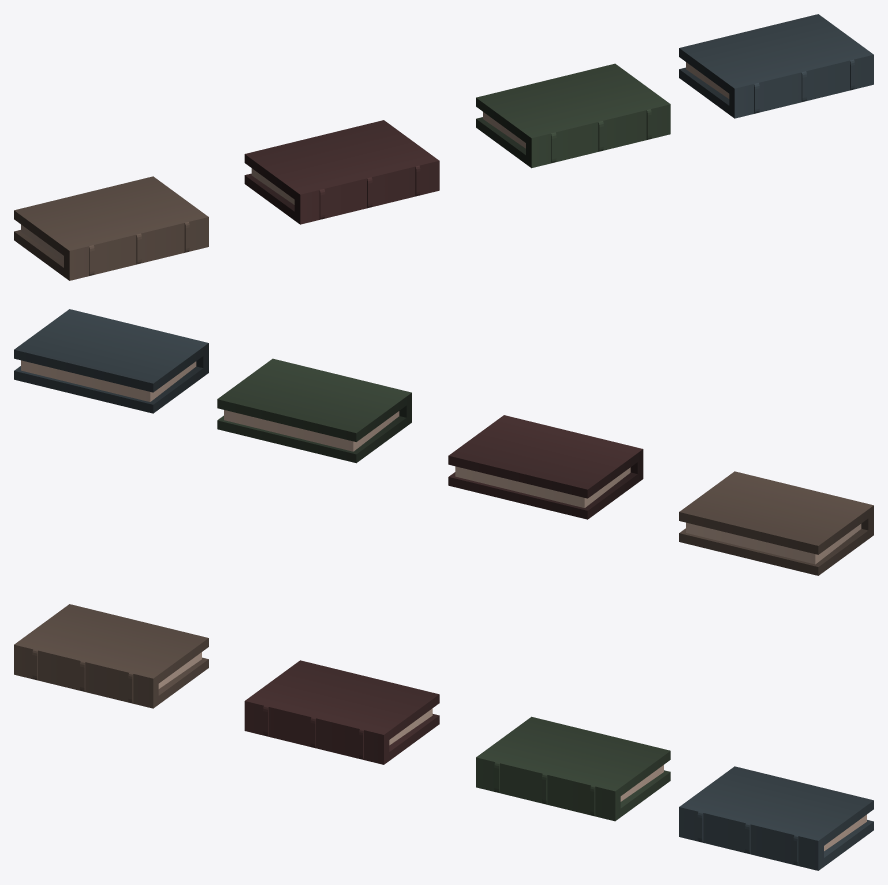
The model's file is Books.fbx.
The picture shows the model from 3 angles, top to bottom: view 1: azimuth 30°, elevation 25°; view 2: azimuth 150°, elevation 25°; view 3: azimuth 330°, elevation 25°; orthographic projection.
Visible parts, largest first — view 1: Book 2, Book 3, Book 1, Book 4; view 2: Book 2, Book 4, Book 3, Book 1; view 3: Book 2, Book 3, Book 4, Book 1.
Boxes of the visible parts, x1,y1,x2,y2 form: Book 2: (244,120,439,224); Book 3: (476,63,670,168); Book 1: (14,176,208,280); Book 4: (679,14,873,118); Book 2: (448,415,643,519); Book 4: (14,309,208,413); Book 3: (217,358,411,463); Book 1: (679,471,873,575); Book 2: (244,660,439,764); Book 3: (476,716,670,821); Book 4: (679,766,873,870); Book 1: (14,604,208,708).
Bounding box in the file's own units: 1155 × 41.16 × 140.
1 material, 1 textured.
